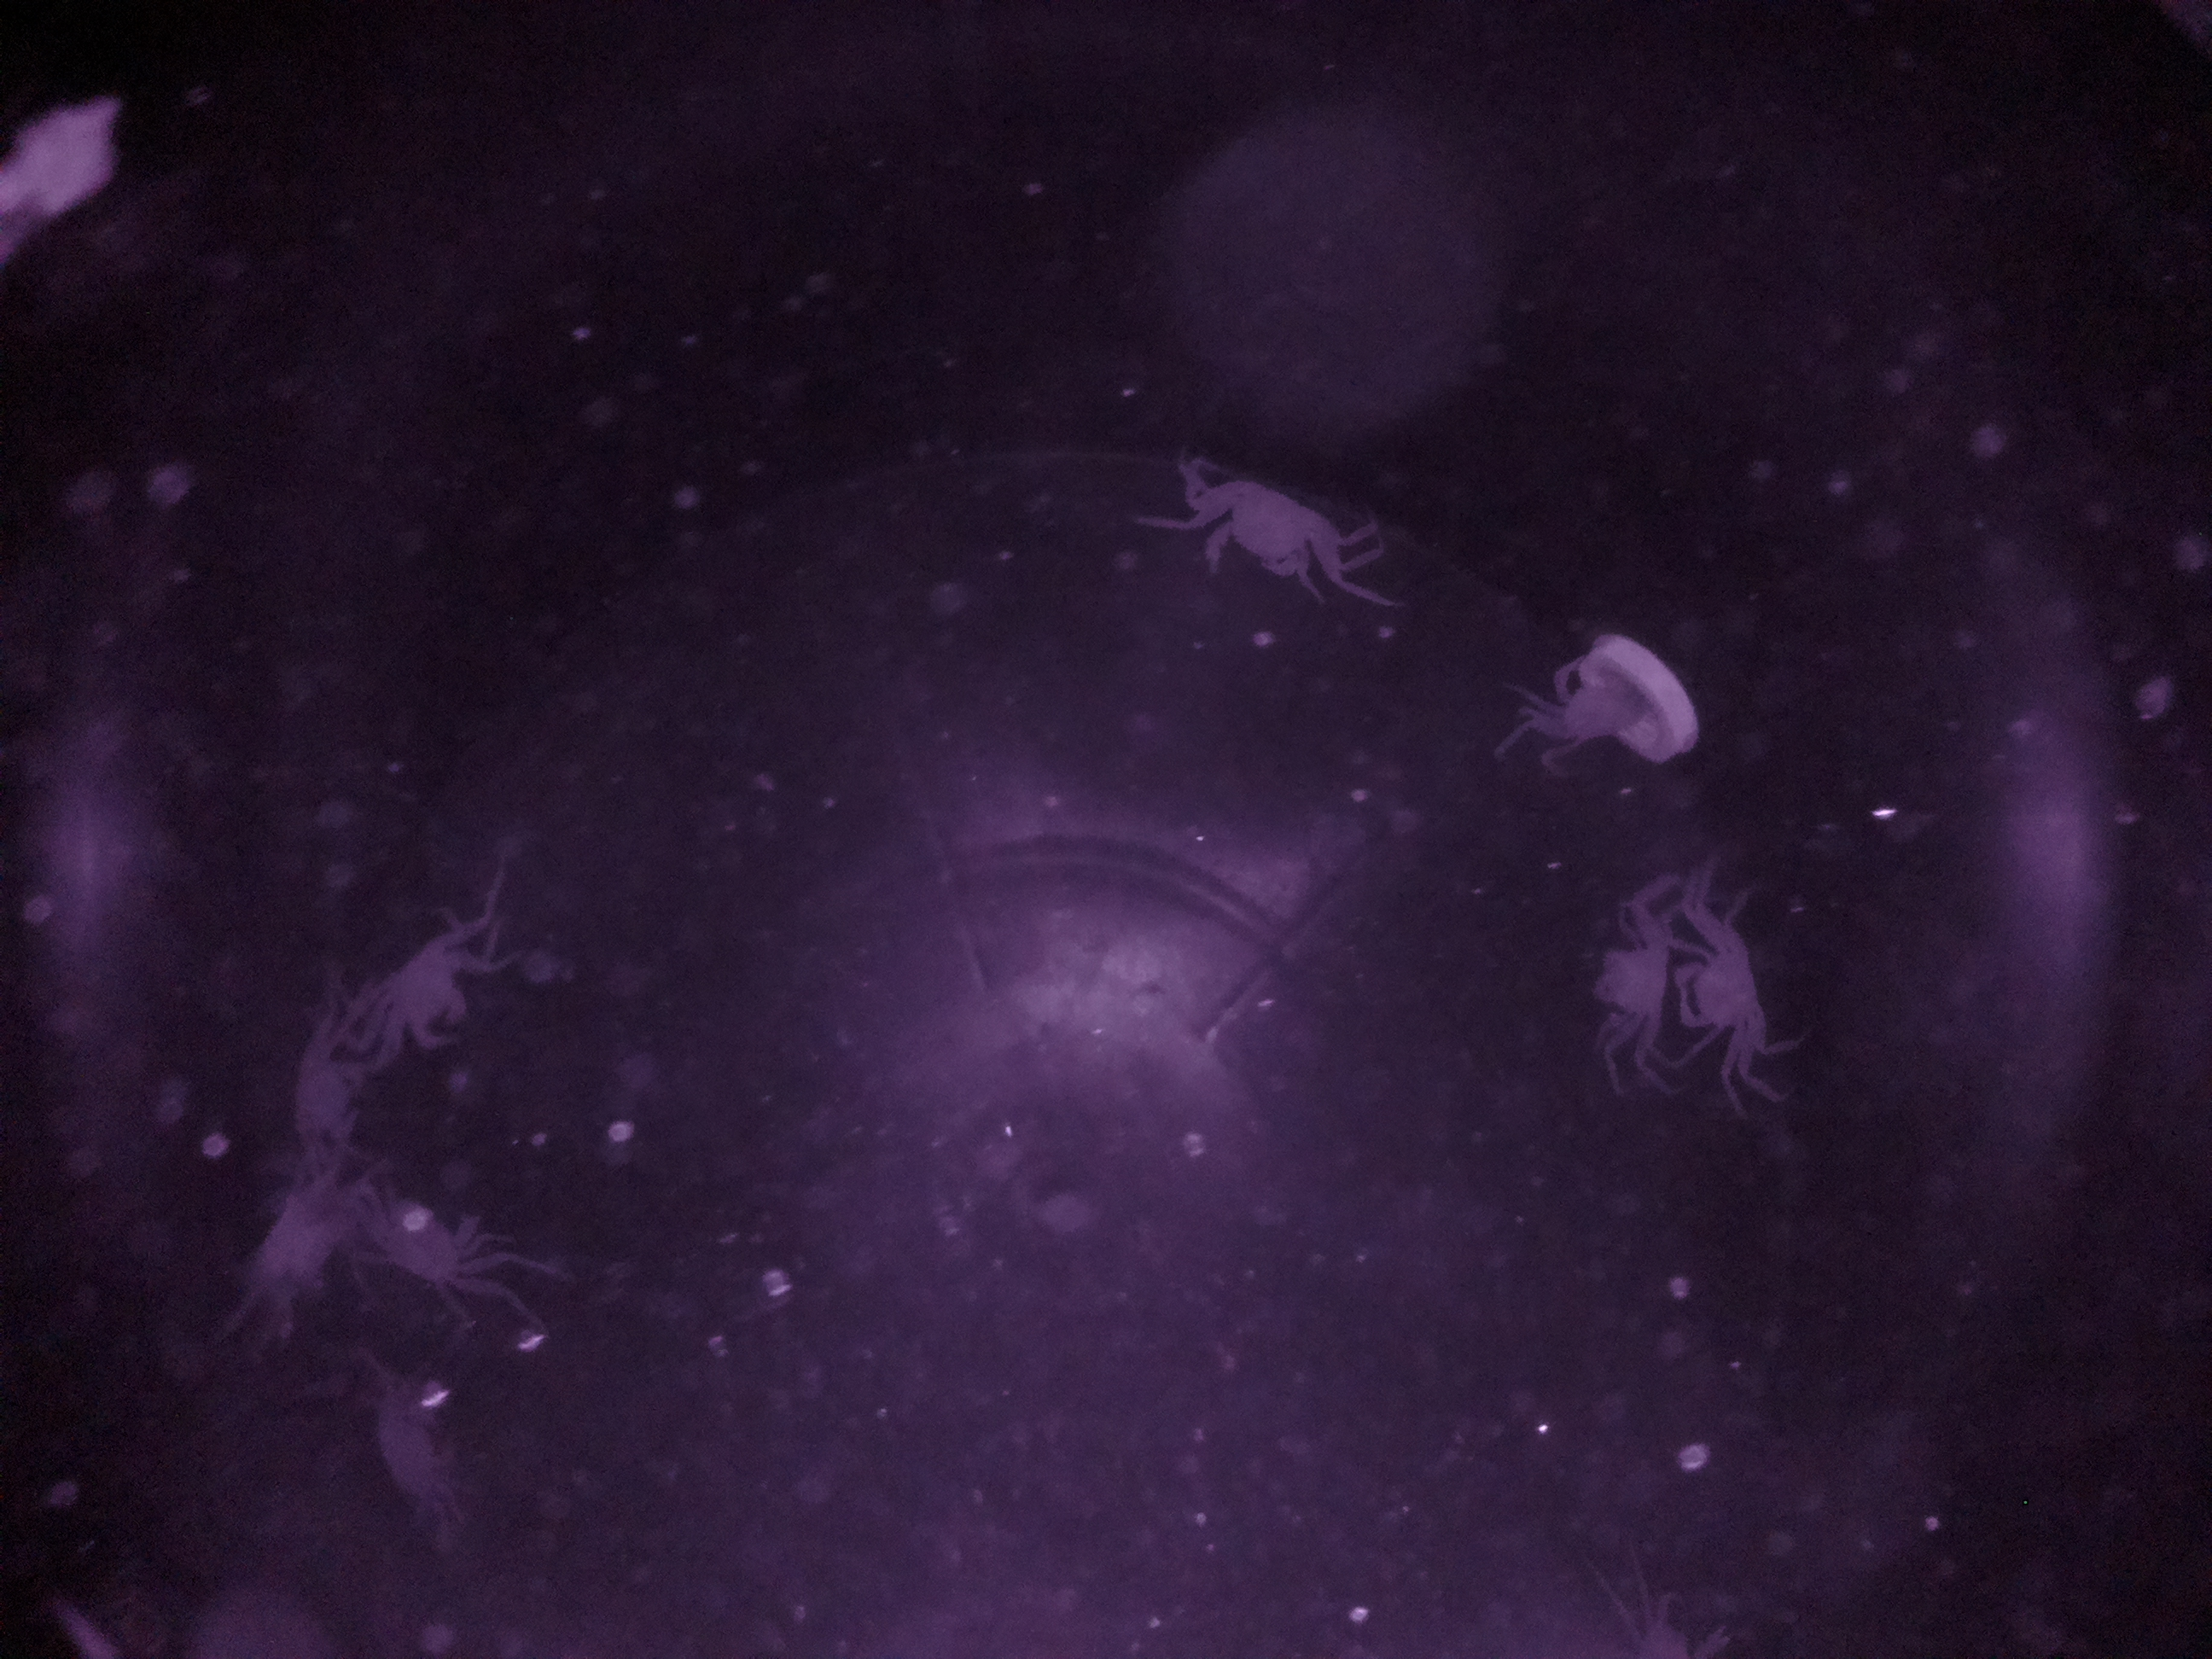Crab: (324, 904, 542, 1093), (1162, 451, 1366, 612), (348, 1171, 529, 1345), (1672, 870, 1801, 1086), (1566, 861, 1684, 1093)
